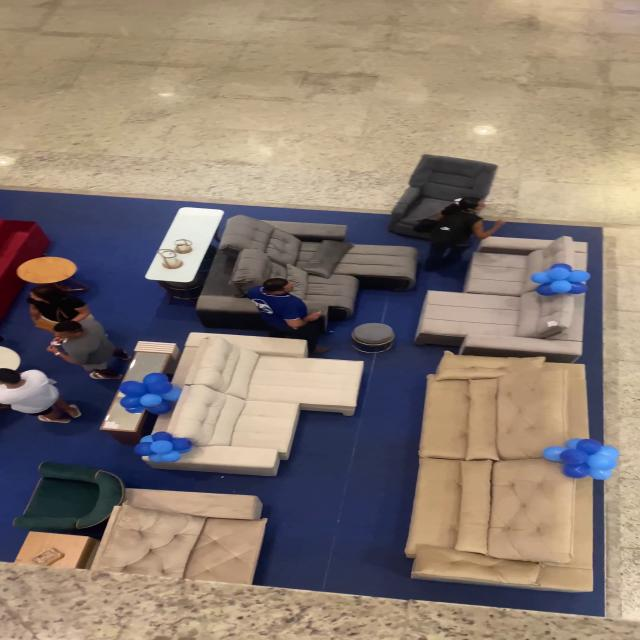person: (41, 307, 130, 380), (249, 277, 332, 351), (416, 197, 496, 263), (0, 355, 58, 426), (19, 275, 86, 318)
